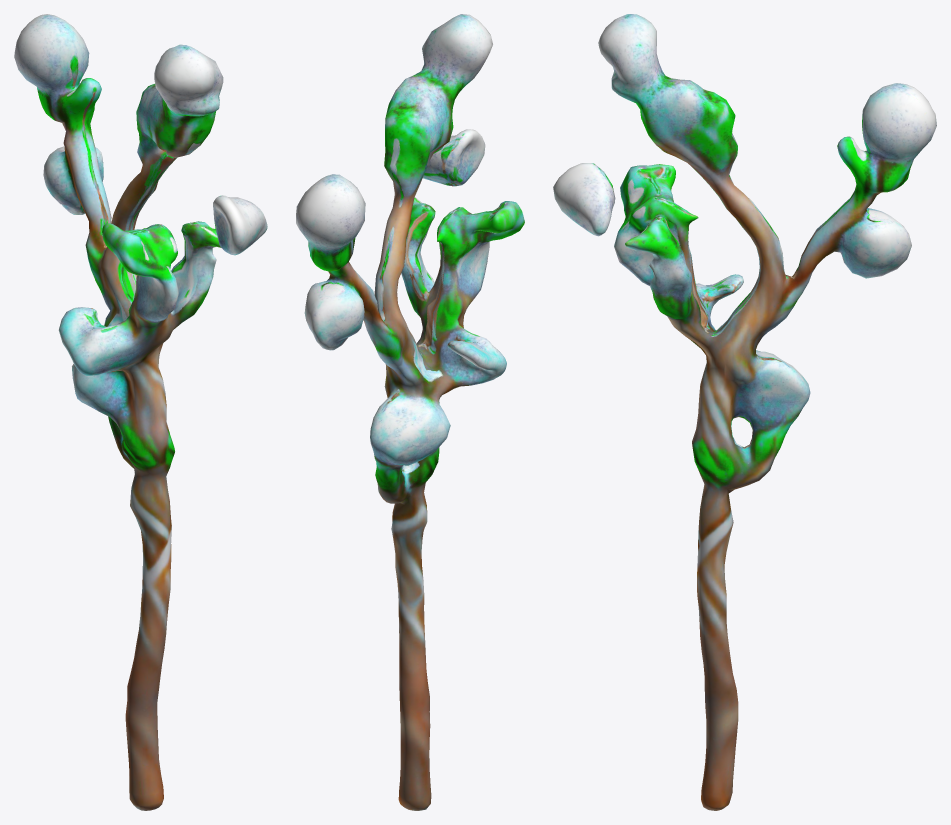
The model's file is 88ca6d1307a1_241d93d55771_white_bubbles_druid.glb.
3 views of the same model, side by side, from view 1: azimuth 30°, elevation 25°; view 2: azimuth 150°, elevation 25°; view 3: azimuth 270°, elevation 25° (orthographic). The views are drawn at different scales.
Parts seen in each view (by area): view 1: mesh; view 2: mesh; view 3: mesh.
Part boxes in pixels (box(x1,y1,x2,y2)): mesh: box(14, 14, 267, 810); mesh: box(296, 14, 524, 810); mesh: box(553, 14, 936, 810).
Size of the model in its own units: 0.1895 by 0.9992 by 0.4404.
1 material, 1 textured.
